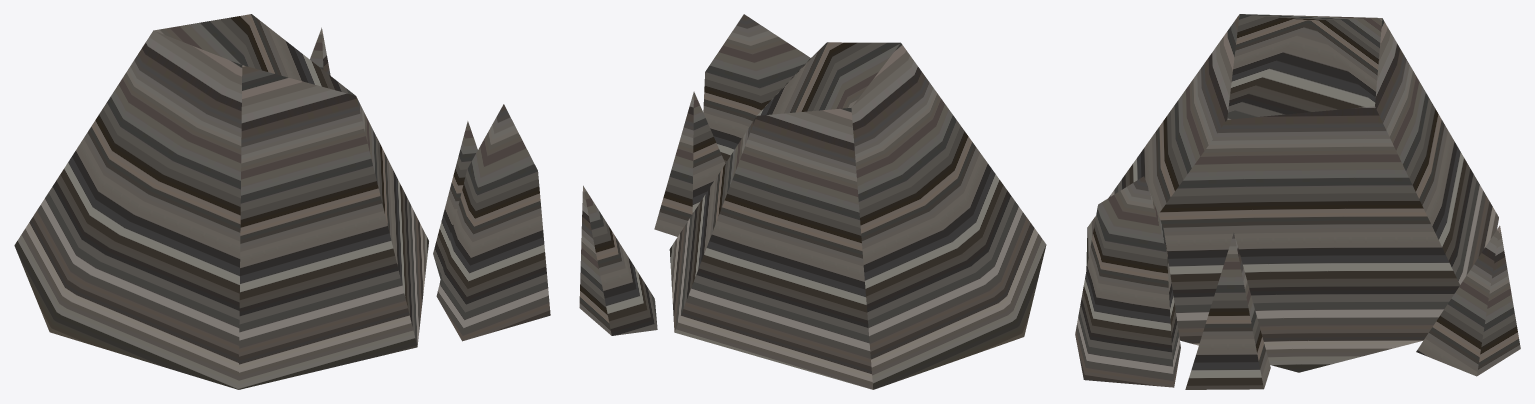
File: rock_vformation1_hdtex.glb
3 views of the same model, side by side, from view 1: azimuth 30°, elevation 25°; view 2: azimuth 150°, elevation 25°; view 3: azimuth 270°, elevation 25° (orthographic). The views are drawn at different scales.
Parts seen in each view (by area): view 1: Rock_VFormation1; view 2: Rock_VFormation1; view 3: Rock_VFormation1.
Boxes of the visible parts, left/top/right/bottom form: Rock_VFormation1: left=14, top=14, right=550, bottom=389; Rock_VFormation1: left=579, top=14, right=1046, bottom=389; Rock_VFormation1: left=1075, top=14, right=1520, bottom=389.
Size of the model in its own units: 24.77 by 15.21 by 22.97.
1 material, 1 textured.
